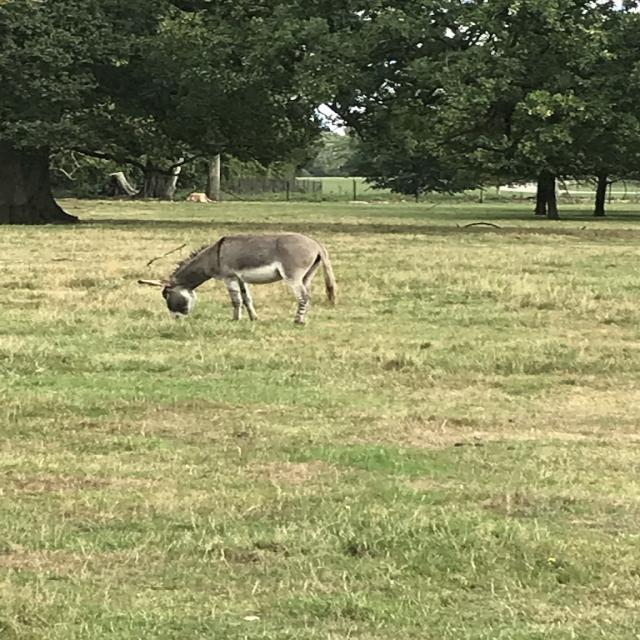Donkey: (136, 230, 342, 328)
